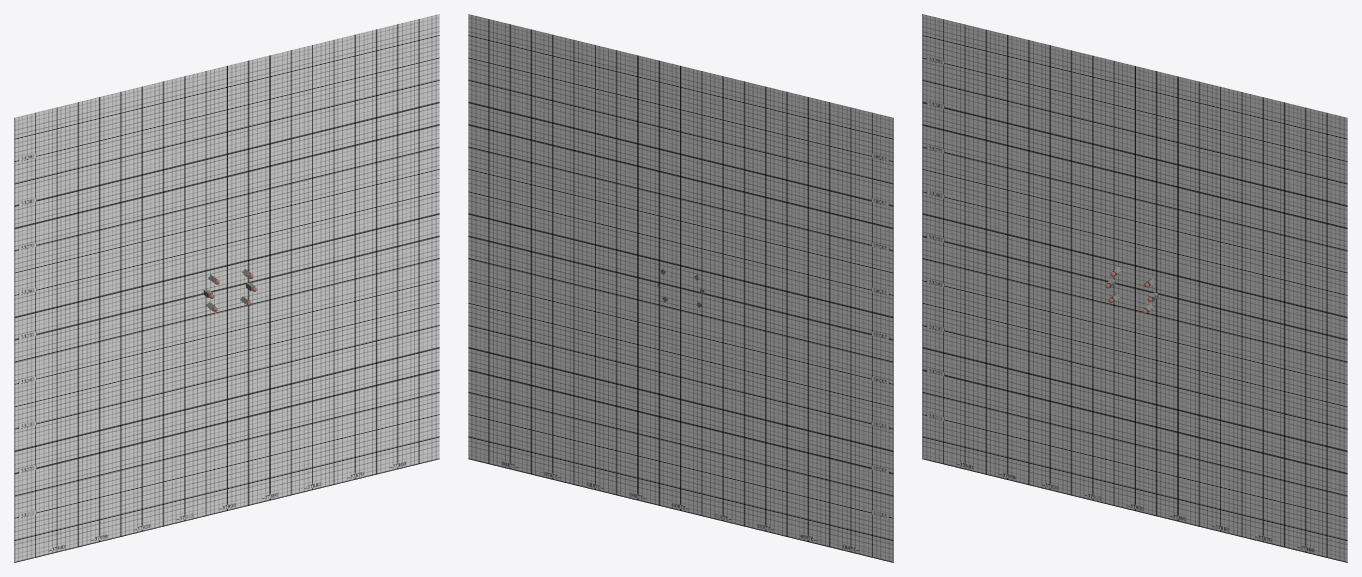
The model's file is Stellarium-Testscene_withGrid_Bump.obj.
The picture shows the model from 3 angles, left to right: view 1: azimuth 30°, elevation 25°; view 2: azimuth 150°, elevation 25°; view 3: azimuth 330°, elevation 25°; orthographic projection.
Visible parts, largest first — view 1: Square100m; view 2: Square100m; view 3: Square100m.
Part boxes in pixels (left/top/right/bottom): Square100m: left=14, top=14, right=439, bottom=562; Square100m: left=468, top=14, right=893, bottom=562; Square100m: left=922, top=14, right=1347, bottom=562.
Size of the model in its own units: 100 by 100 by 3.
Materials: 3 (3 with a texture image).
